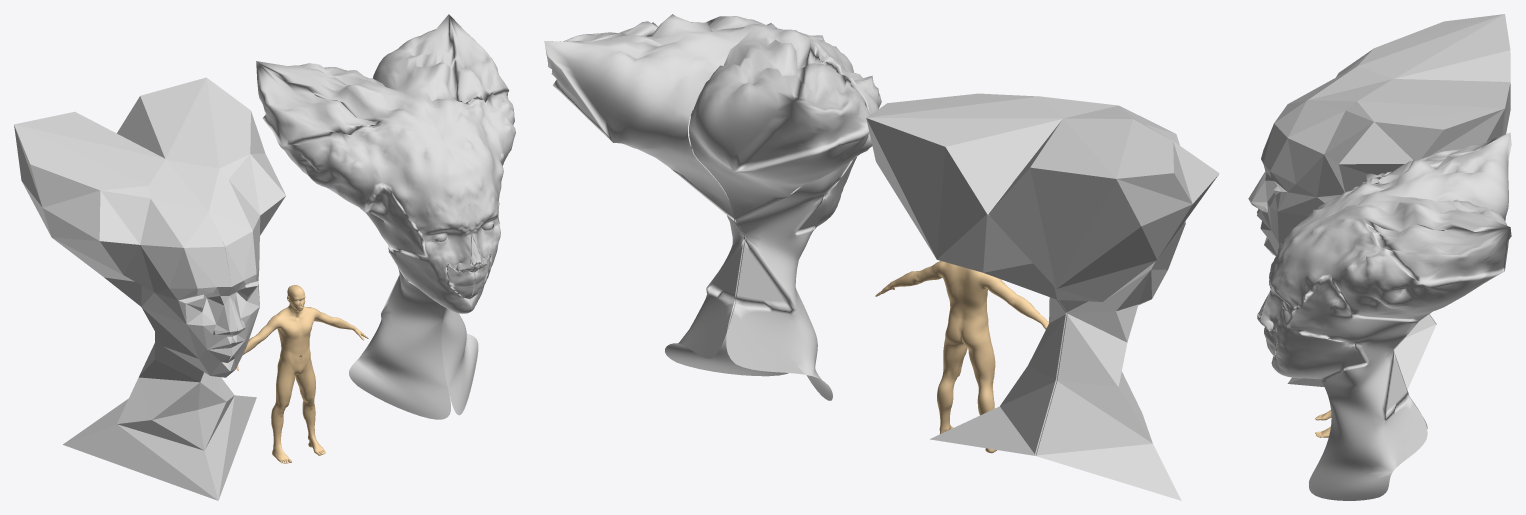
Rendered from art deco style sculpture gg.gltf.
3 renders of one model, left to right at view 1: azimuth 30°, elevation 25°; view 2: azimuth 150°, elevation 25°; view 3: azimuth 270°, elevation 25°, orthographic. The views are drawn at different scales.
Visible parts, largest first — view 1: Cube, Cube.001, human_male_base03; view 2: Cube, Cube.001, human_male_base03; view 3: Cube.001, Cube.
Boxes of the visible parts, x1,y1,x2,y2 form: Cube: (14, 77, 285, 500); Cube.001: (256, 14, 515, 419); human_male_base03: (236, 285, 368, 463); Cube: (866, 93, 1219, 500); Cube.001: (544, 14, 881, 400); human_male_base03: (875, 261, 1048, 453); Cube.001: (1257, 132, 1511, 500); Cube: (1248, 14, 1510, 389).
Size of the model in its own units: 5.2 by 3.42 by 2.52.
